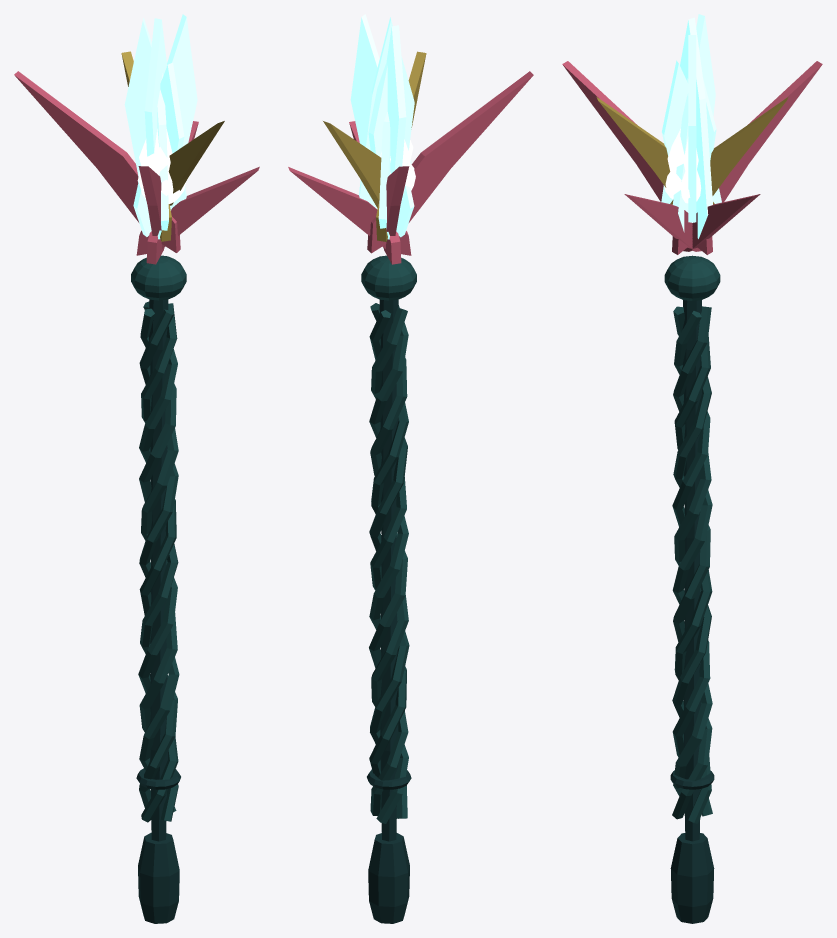
The model's file is staff_stormbraid.glb.
3 views of the same model, side by side, from view 1: azimuth 30°, elevation 25°; view 2: azimuth 150°, elevation 25°; view 3: azimuth 270°, elevation 25° (orthographic).
Parts seen in each view (by area): view 1: Sb_Leaf1, Sb_Braid2, Sb_Braid3, Sb_Braid1, Sb_Core, Sb_Braid0, Sb_Butt, Sb_Flame2, Sb_Flame4, Sb_Leaf4, Sb_Knot, Sb_Flame0 (+6 smaller); view 2: Sb_Leaf0, Sb_Braid1, Sb_Braid0, Sb_Braid2, Sb_Braid3, Sb_Core, Sb_Butt, Sb_Flame2, Sb_Flame4, Sb_Leaf5, Sb_Knot, Sb_Leaf3 (+6 smaller); view 3: Sb_Braid0, Sb_Braid3, Sb_Braid2, Sb_Braid1, Sb_Core, Sb_Butt, Sb_Flame0, Sb_Leaf1, Sb_Leaf0, Sb_Knot, Sb_Leaf3, Sb_Flame4 (+7 smaller).
Part boxes in pixels (box(x1,y1,x2,y2)): Sb_Leaf1: box(14, 71, 180, 252); Sb_Braid2: box(138, 309, 178, 822); Sb_Braid3: box(139, 303, 178, 821); Sb_Braid1: box(139, 308, 178, 807); Sb_Core: box(149, 299, 168, 841); Sb_Braid0: box(139, 301, 179, 811); Sb_Butt: box(138, 832, 179, 923); Sb_Flame2: box(133, 14, 197, 236); Sb_Flame4: box(124, 18, 186, 207); Sb_Leaf4: box(136, 166, 259, 255); Sb_Knot: box(131, 255, 186, 300); Sb_Flame0: box(144, 18, 166, 156); Sb_Leaf0: box(367, 71, 533, 253); Sb_Braid1: box(369, 308, 408, 823); Sb_Braid0: box(369, 310, 408, 815); Sb_Braid2: box(369, 305, 409, 818); Sb_Braid3: box(369, 303, 408, 777); Sb_Core: box(379, 299, 398, 841); Sb_Butt: box(368, 833, 409, 923); Sb_Flame2: box(350, 14, 414, 237); Sb_Flame4: box(386, 25, 406, 173); Sb_Leaf5: box(288, 167, 411, 255); Sb_Knot: box(361, 255, 416, 300); Sb_Leaf3: box(323, 121, 381, 207); Sb_Braid0: box(672, 306, 711, 823); Sb_Braid3: box(672, 311, 712, 819); Sb_Braid2: box(673, 306, 712, 796); Sb_Braid1: box(672, 335, 712, 816); Sb_Core: box(682, 300, 701, 841); Sb_Butt: box(670, 833, 714, 923); Sb_Flame0: box(680, 17, 712, 238); Sb_Leaf1: box(672, 61, 822, 254); Sb_Leaf0: box(562, 61, 712, 254); Sb_Knot: box(664, 255, 720, 300); Sb_Leaf3: box(670, 97, 788, 204); Sb_Flame4: box(672, 14, 715, 232).
Size of the model in its own units: 0.4235 by 2.38 by 0.6249.
